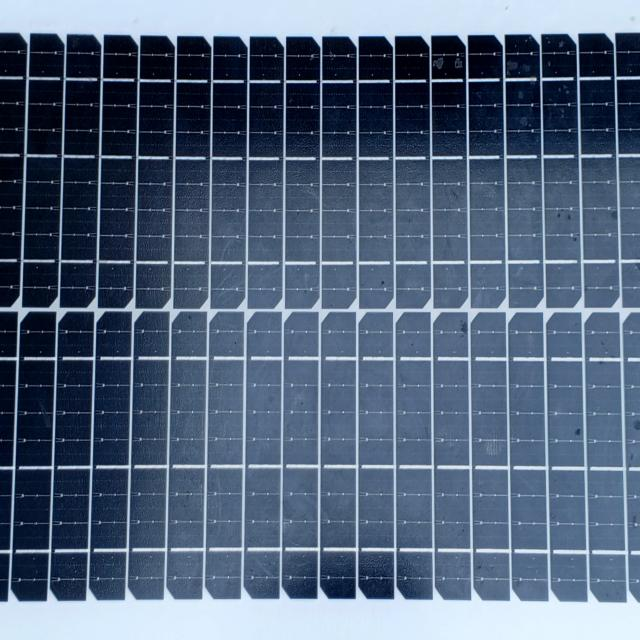Clean: (29, 22, 636, 614)
